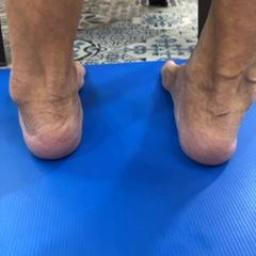Back View -Both Feet-: (2, 31, 249, 170)
